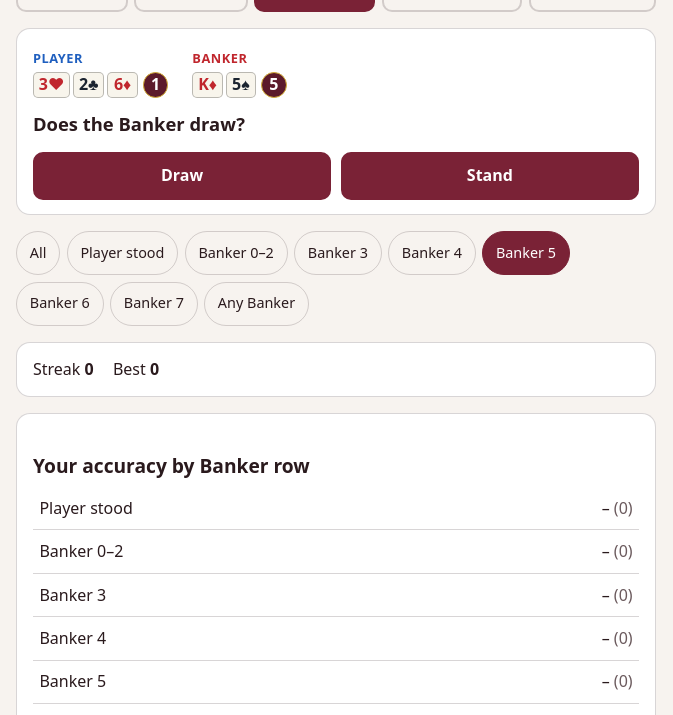
Test: Drill › asks, grades and records per category; a miss links the chart and the table
Click the button "Stand".
click(490, 176)  # box [341, 152, 639, 200]
(page scrolled)
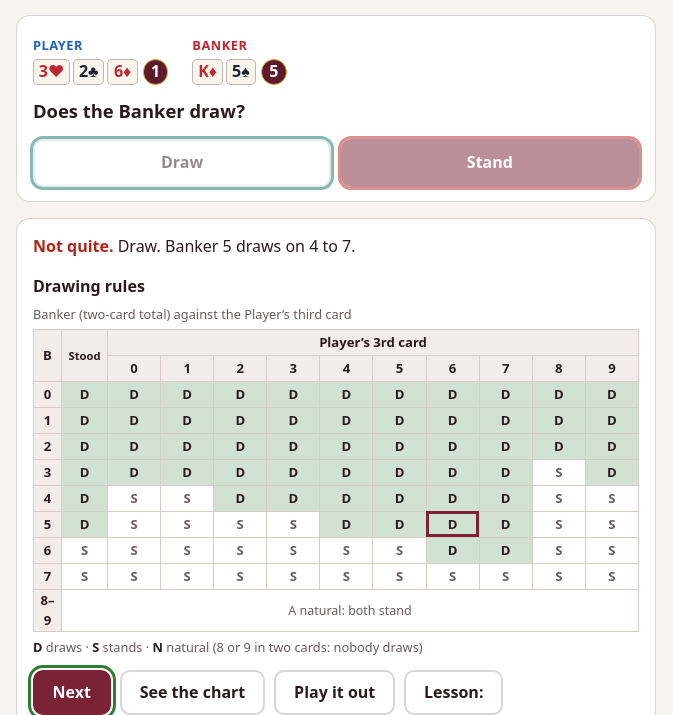
Expected: the button "Next" is shown
Expected: the link to "#/rules?highlight=b5/p6" is shown, [120, 670, 265, 714]
Expected: the link to "#/play?shoe=3h,Kd,2c,5s,6d" is shown, [274, 670, 395, 714]
Click the button "Next".
click(72, 693)  # box [33, 670, 110, 714]
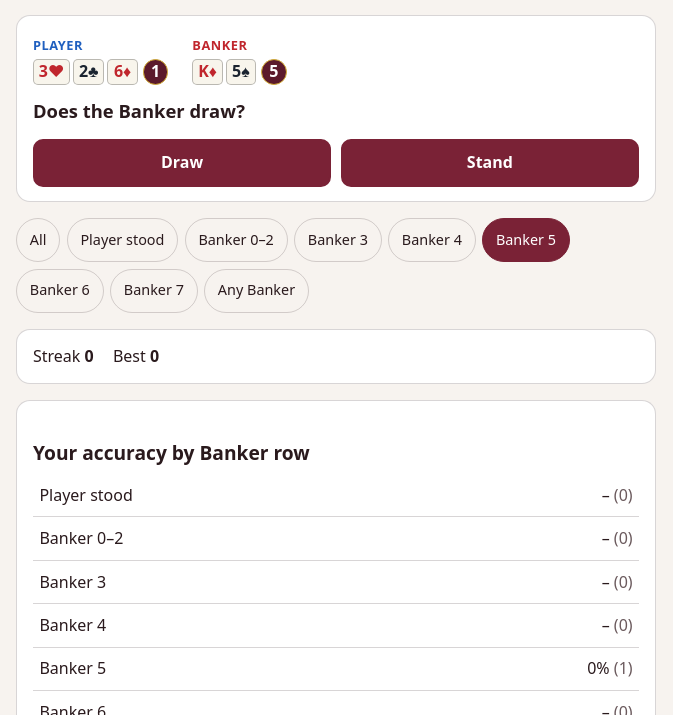
Click the button "Draw".
click(182, 163)  # box [33, 139, 331, 187]
(page scrolled)
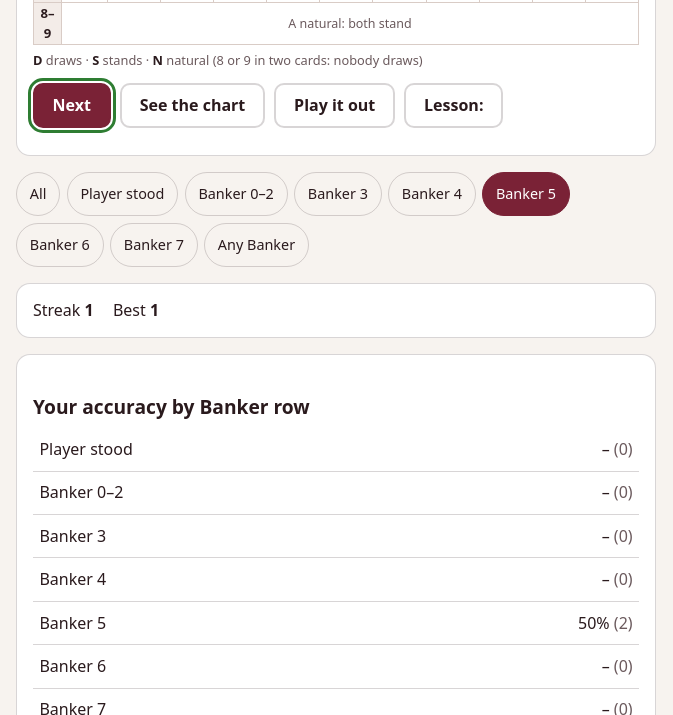
Expected: the text with test id "streak" reads "1", [85, 299, 94, 321]
